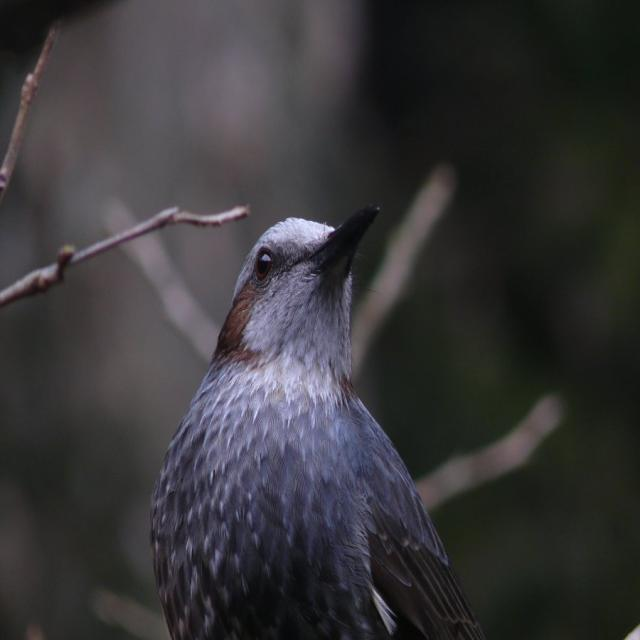bird: (147, 207, 493, 640)
